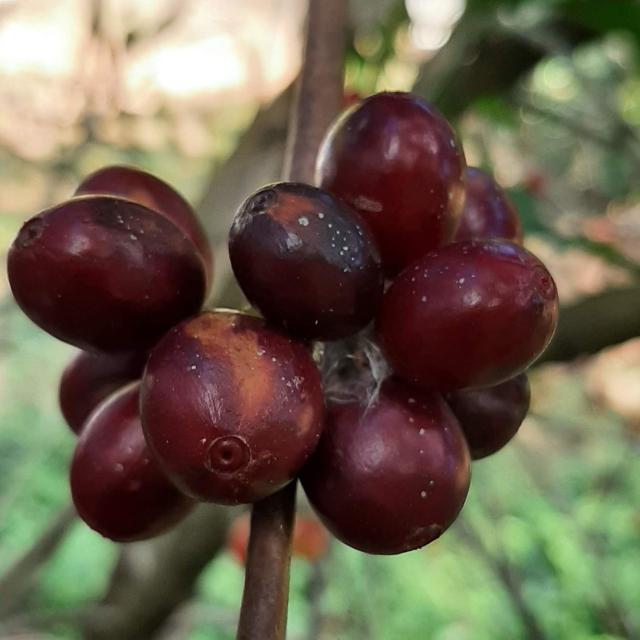red: (139, 310, 325, 506), (7, 195, 206, 351), (300, 378, 471, 556), (376, 238, 559, 393), (316, 92, 467, 277), (228, 182, 384, 341), (69, 381, 195, 543), (74, 165, 213, 286), (445, 373, 531, 460), (58, 351, 147, 434), (456, 167, 524, 244)
